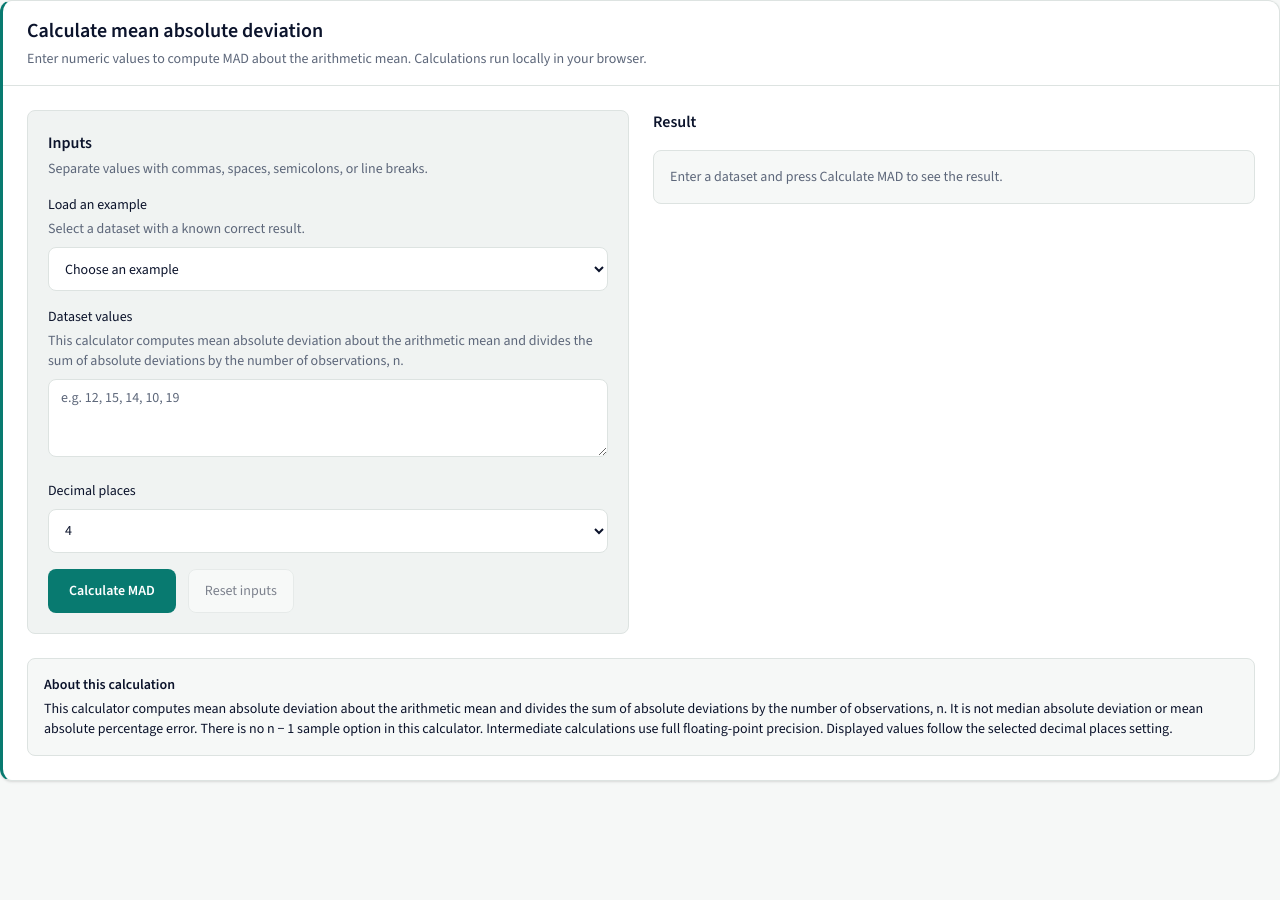
Test: MeanAbsoluteDeviationCalculator Calculate MAD workflow › loads an example into the input without calculating
Select "Class test scores" in the dropdown labelled "Load an example" at (328, 269), box 48,247 -> 608,291
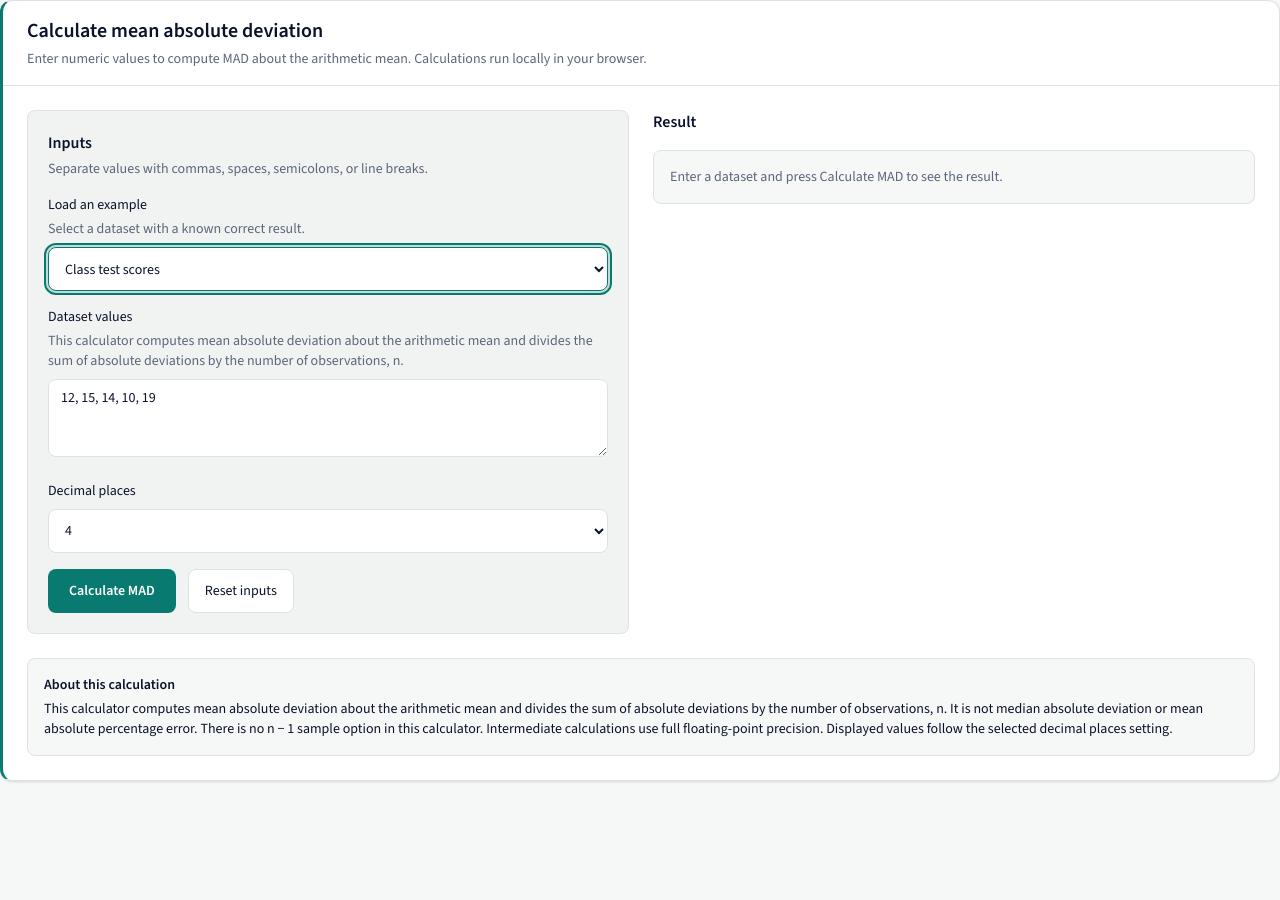
expect the text box labelled "Dataset values" holds "12, 15, 14, 10, 19": met, box 48,379 -> 608,457
